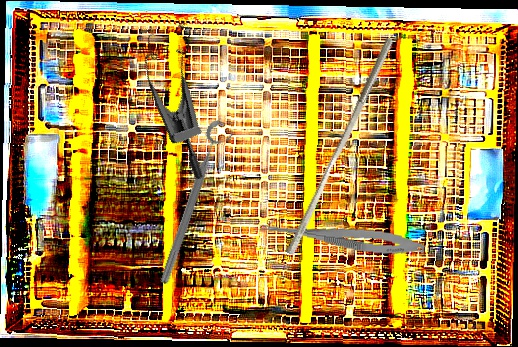Fixation Ring: (155, 117, 237, 290)
Micro Scissor: (253, 217, 427, 259)
Pusher: (284, 33, 395, 259)
Speculum: (112, 7, 262, 183)
